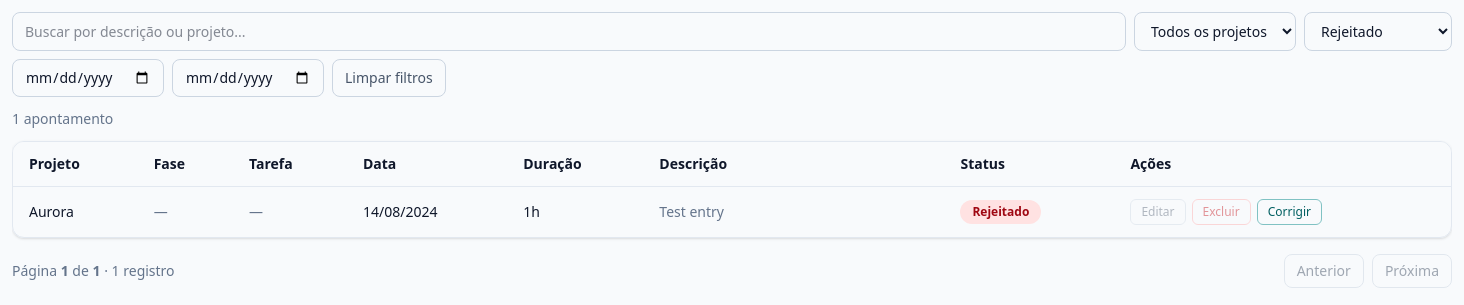
Test: TimeEntryList — URL query params › shows "Limpar filtros" button when filters are active and clears them on click
The width and height of the screenshot is (1464, 305).
Step 1. Click the button "Limpar filtros" → coordinates (389, 78), box [332,59,446,97]
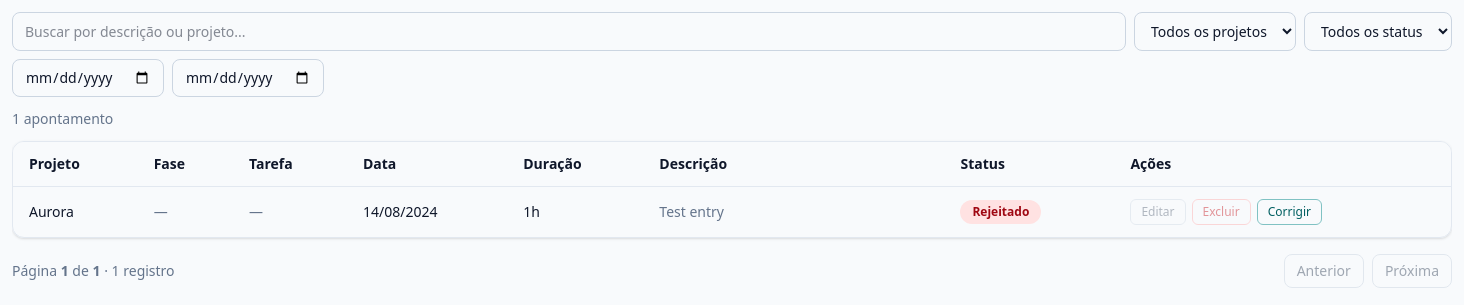
Check: the dropdown named "Filtrar por status" shows "Todos os status", box [1304,12,1452,51]
